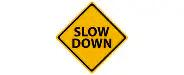Slow: (56, 3, 125, 69)
